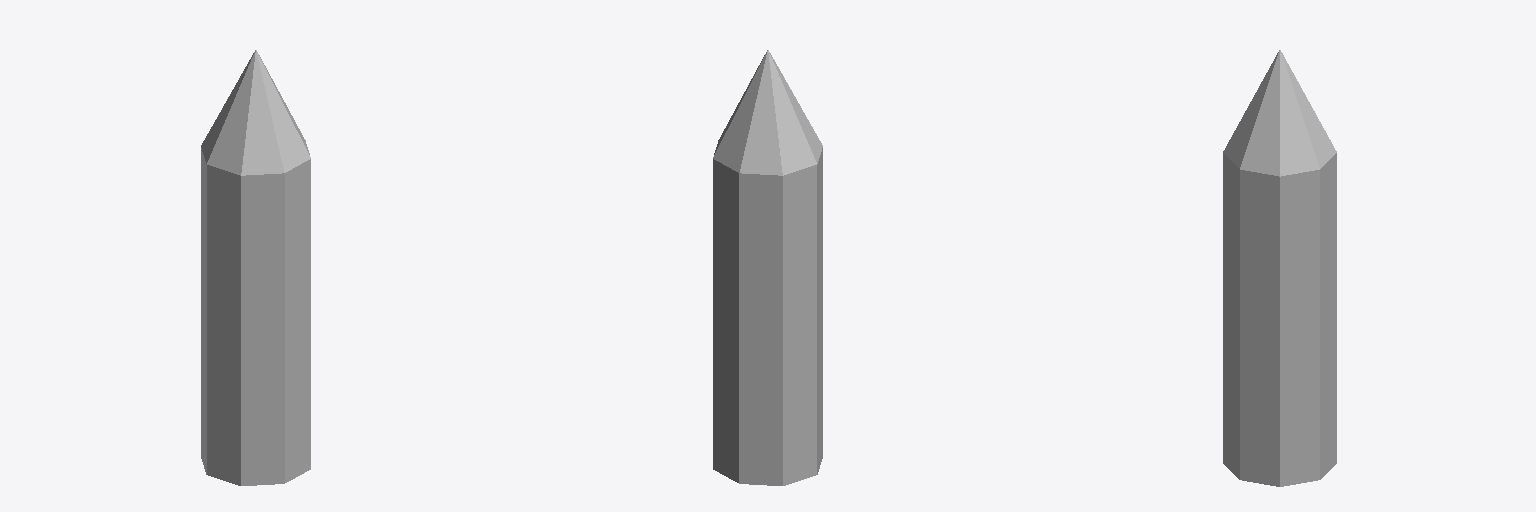
Rendered from missile.obj.
3 renders of one model, left to right at view 1: azimuth 30°, elevation 25°; view 2: azimuth 150°, elevation 25°; view 3: azimuth 270°, elevation 25°, orthographic.
Parts seen in each view (by area): view 1: Cone; view 2: Cone; view 3: Cone.
Part boxes in pixels (x1,y1,x2,y2): Cone: (201, 50, 310, 485); Cone: (713, 50, 822, 485); Cone: (1223, 50, 1336, 486).
Bounding box in the file's own units: 1 × 4 × 1.